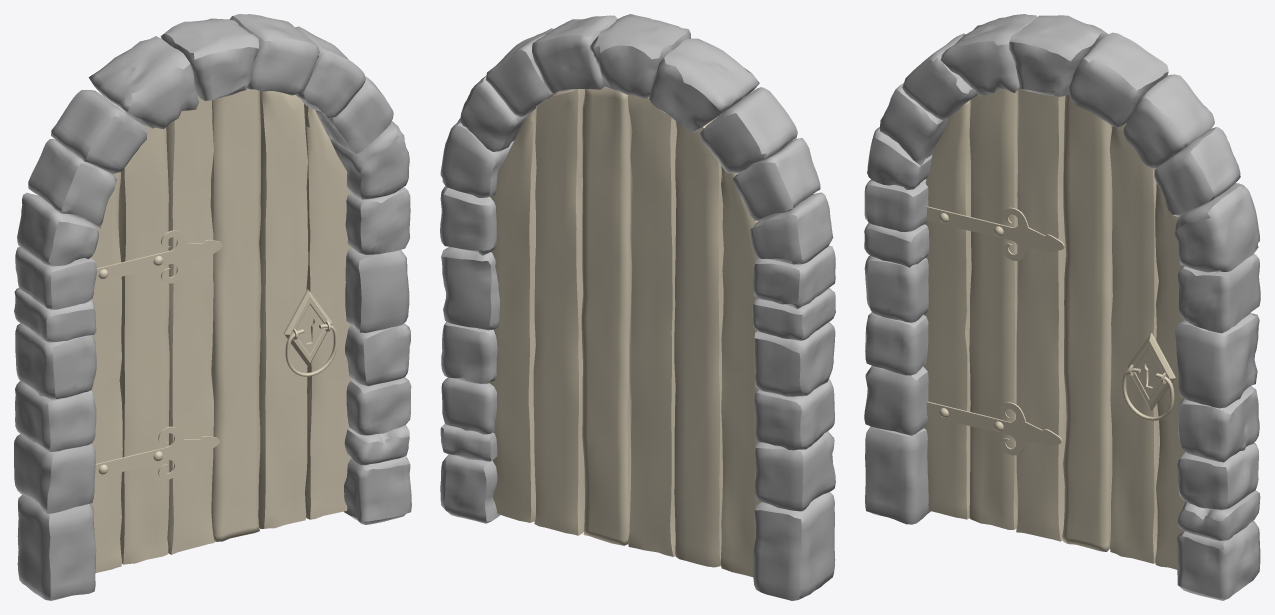
Rendered from Door.fbx.
3 renders of one model, left to right at view 1: azimuth 30°, elevation 25°; view 2: azimuth 150°, elevation 25°; view 3: azimuth 330°, elevation 25°, orthographic.
Visible parts, largest first — view 1: Door_low, Door_low.001, Door_low.002; view 2: Door_low, Door_low.001; view 3: Door_low, Door_low.001, Door_low.002.
Boxes of the visible parts, x1=… form: Door_low: x1=90, y1=88, x2=352, y2=572; Door_low.001: x1=14, y1=14, x2=411, y2=600; Door_low.002: x1=283, y1=289, x2=337, y2=376; Door_low: x1=490, y1=87, x2=760, y2=576; Door_low.001: x1=440, y1=14, x2=835, y2=600; Door_low: x1=923, y1=88, x2=1185, y2=569; Door_low.001: x1=864, y1=14, x2=1260, y2=600; Door_low.002: x1=1122, y1=333, x2=1175, y2=420.
Size of the model in its own units: 1194 by 1594 by 230.
